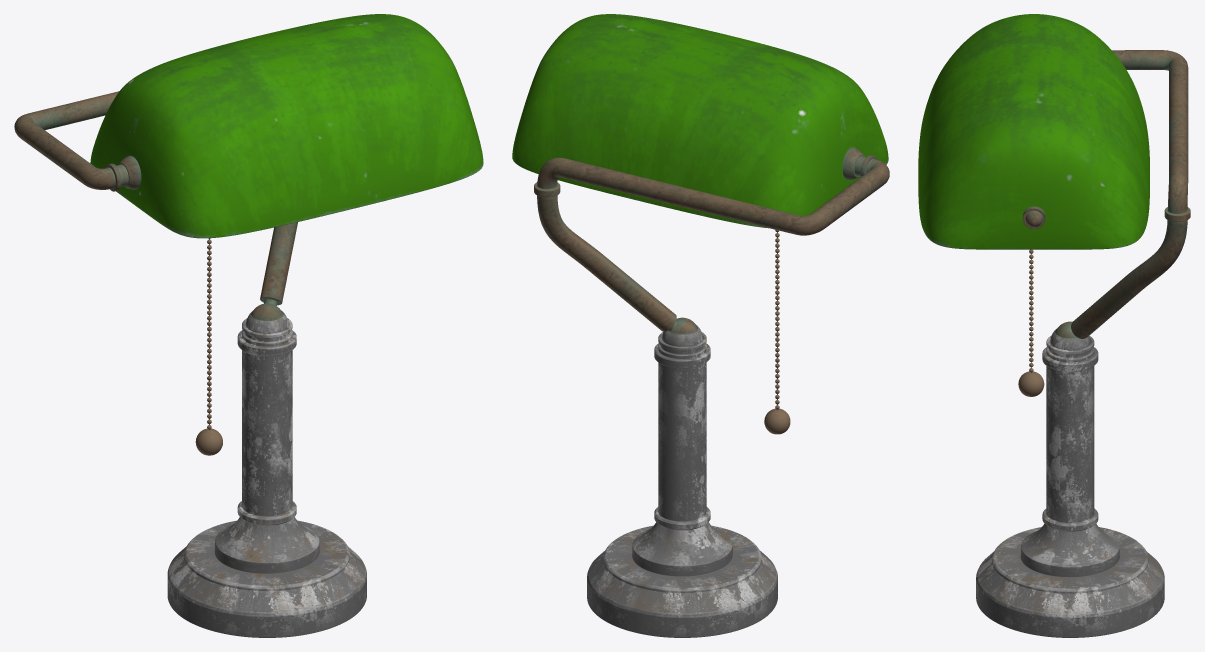
Rendered from SM_BankersLamp.glb.
3 renders of one model, left to right at view 1: azimuth 30°, elevation 25°; view 2: azimuth 150°, elevation 25°; view 3: azimuth 270°, elevation 25°, orthographic. The views are drawn at different scales.
Visible parts, largest first — view 1: BankersLamp_GlassShade, BankersLamp; view 2: BankersLamp_GlassShade, BankersLamp; view 3: BankersLamp_GlassShade, BankersLamp.
Part boxes in pixels (x1,y1,x2,y2): BankersLamp_GlassShade: [90, 14, 483, 238]; BankersLamp: [14, 91, 366, 637]; BankersLamp_GlassShade: [512, 14, 888, 228]; BankersLamp: [534, 147, 889, 637]; BankersLamp_GlassShade: [918, 14, 1149, 249]; BankersLamp: [976, 50, 1190, 637].
Size of the model in its own units: 0.2712 by 0.3997 by 0.1843.
Materials: 3 (3 with a texture image).
